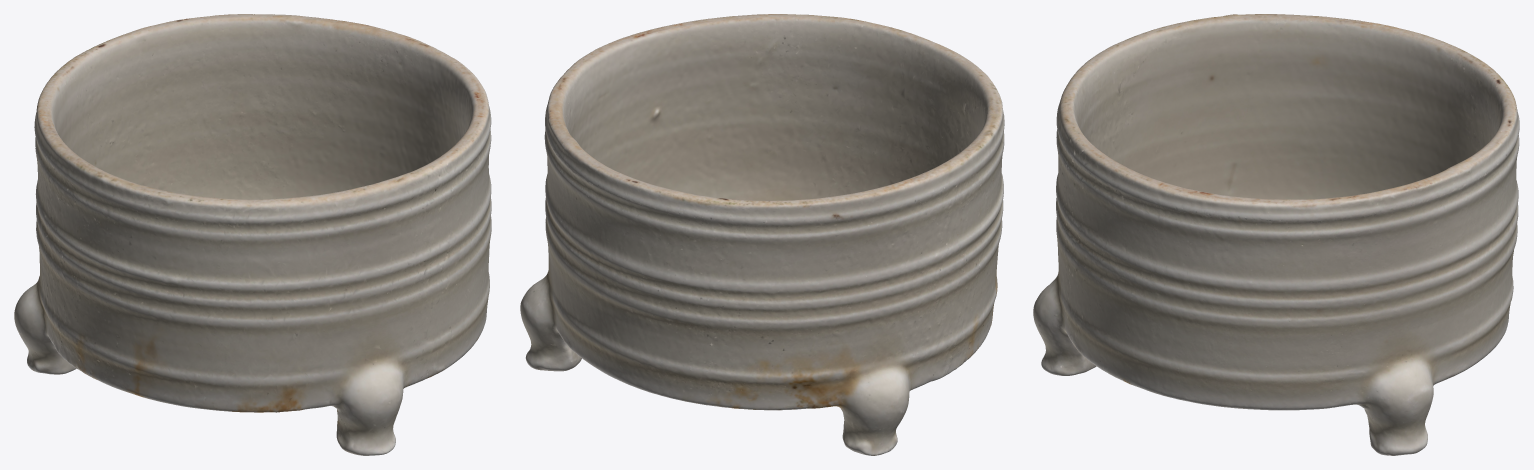
3 views of the same model, side by side, from view 1: azimuth 30°, elevation 25°; view 2: azimuth 150°, elevation 25°; view 3: azimuth 270°, elevation 25° (orthographic).
Visible parts, largest first — view 1: 2113_0589_9743_High; view 2: 2113_0589_9743_High; view 3: 2113_0589_9743_High.
Part boxes in pixels (x1,y1,x2,y2): 2113_0589_9743_High: (14, 14, 491, 455); 2113_0589_9743_High: (520, 14, 1004, 455); 2113_0589_9743_High: (1033, 14, 1519, 455).
Bounding box in the file's own units: 109 × 68.76 × 114.
1 material, 1 textured.
